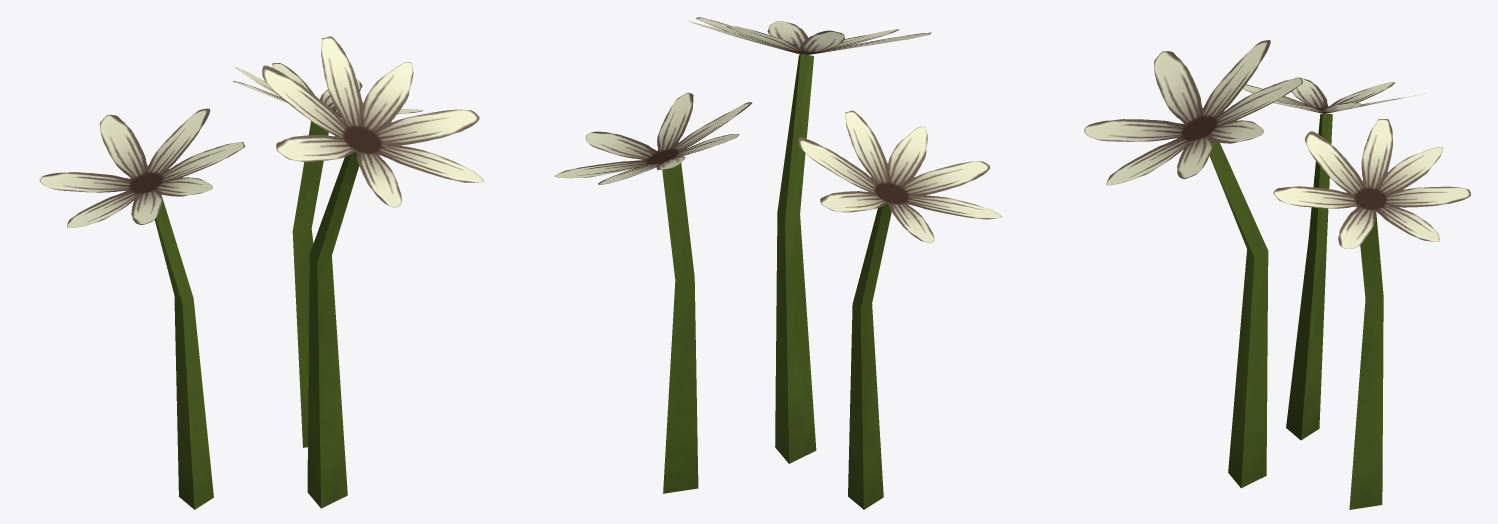
The model's file is flower7.fbx.
3 views of the same model, side by side, from view 1: azimuth 30°, elevation 25°; view 2: azimuth 150°, elevation 25°; view 3: azimuth 270°, elevation 25° (orthographic). The views are drawn at different scales.
Visible parts, largest first — view 1: polySurface2269; view 2: polySurface2269; view 3: polySurface2269.
Boxes of the visible parts, <box> form: polySurface2269: <box>39,36,483,509</box>; polySurface2269: <box>554,17,1001,509</box>; polySurface2269: <box>1084,40,1470,509</box>.
Bounding box in the file's own units: 0.5553 × 0.5746 × 0.5248.
